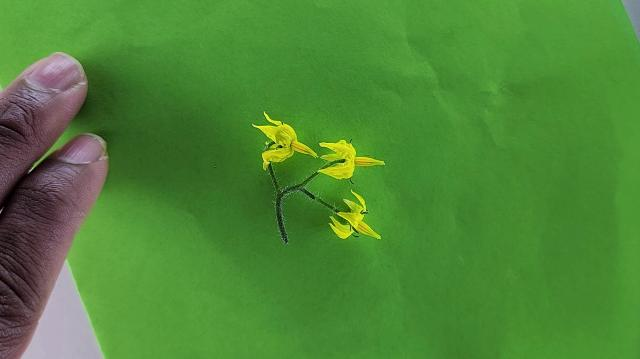Anthesis: (251, 111, 320, 171), (316, 138, 386, 183), (327, 189, 382, 241)
